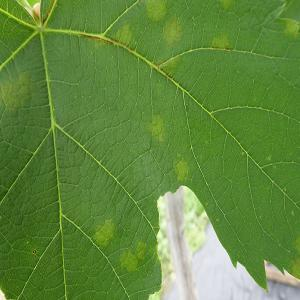Folha: (0, 0, 299, 298)
Fungo: (1, 72, 28, 106), (92, 218, 115, 248), (111, 22, 135, 47), (211, 26, 233, 52), (118, 250, 140, 271), (149, 114, 165, 142), (166, 18, 182, 46), (147, 0, 167, 20), (174, 157, 189, 183), (282, 18, 300, 38), (285, 255, 300, 278), (32, 2, 40, 20), (220, 0, 234, 10), (137, 241, 144, 260), (294, 239, 300, 252), (32, 249, 36, 253)
